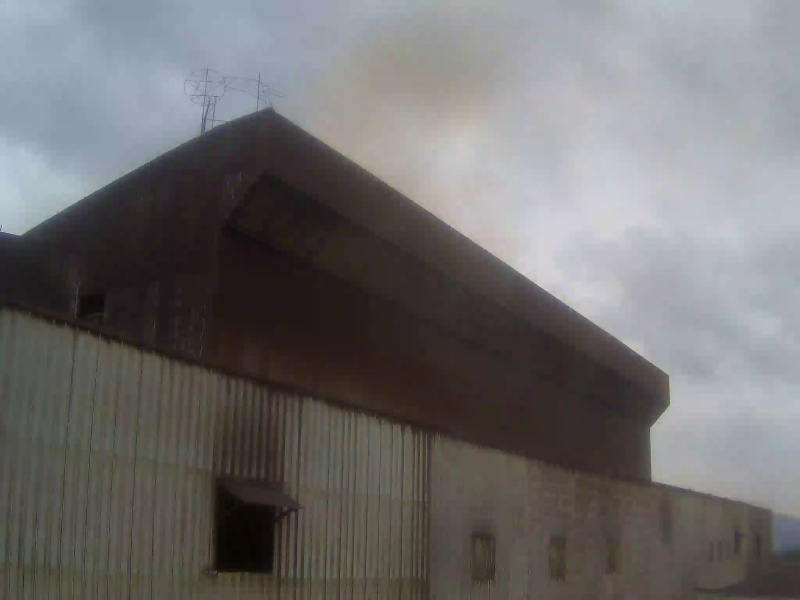bom: (614, 120, 800, 473), (147, 1, 300, 173), (1, 1, 153, 173)
ruim: (350, 5, 541, 262)
